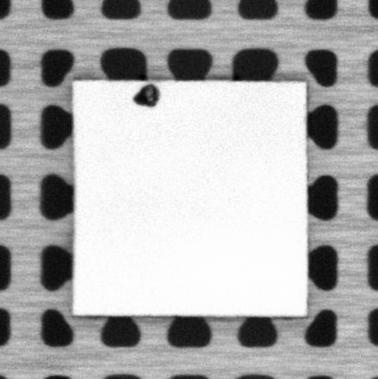DIE_INK: (130, 82, 162, 109)
